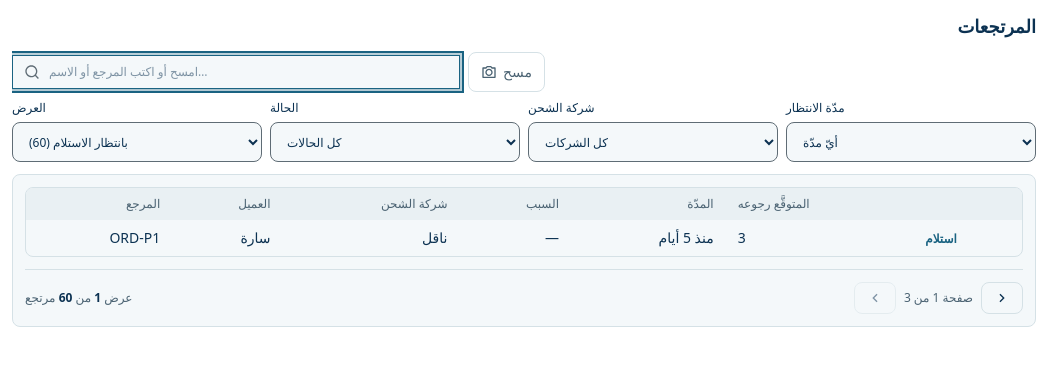
choosing › and «إعادة تعيين» counts what is chosen — the search too — and puts every one back
The width and height of the screenshot is (1053, 392).
Check: the dropdown labelled "العرض" is shown, box [12,122,262,162]
Select "مرتجع (40)" in the dropdown labelled "الحالة" at (395, 142), box [270,122,520,162]
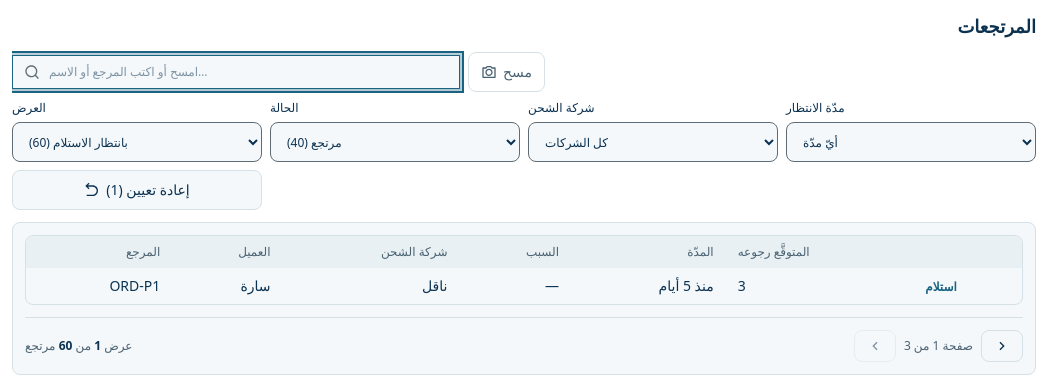
Select "أمان (20)" in the dropdown labelled "شركة الشحن" at (653, 142), box [528,122,778,162]
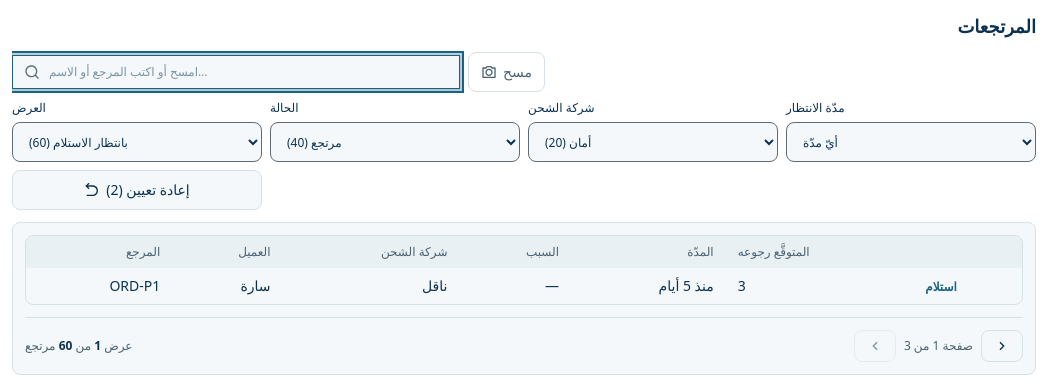
Select "منذ 2–3 أيام (18)" in the dropdown labelled "مدّة الانتظار" at (911, 142), box [786,122,1036,162]
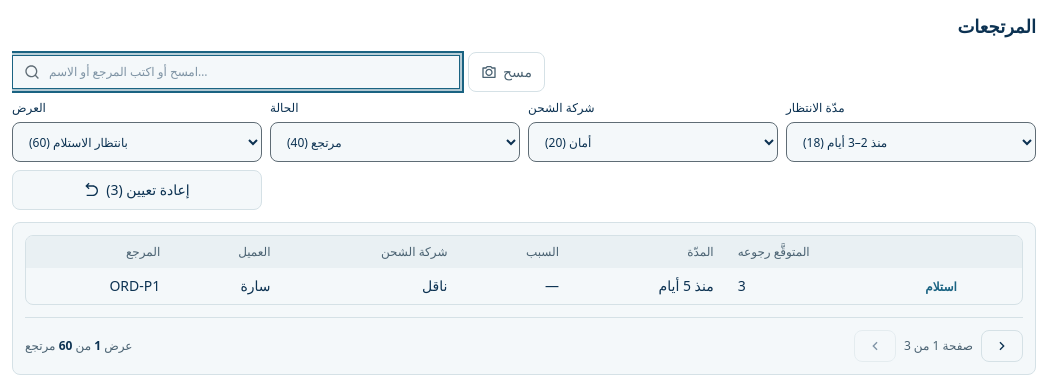
Type "TRK" into the field labelled "امسح أو اكتب المرجع أو الاسم…".
click(236, 72); type("TRK")  # box [12,55,460,89]
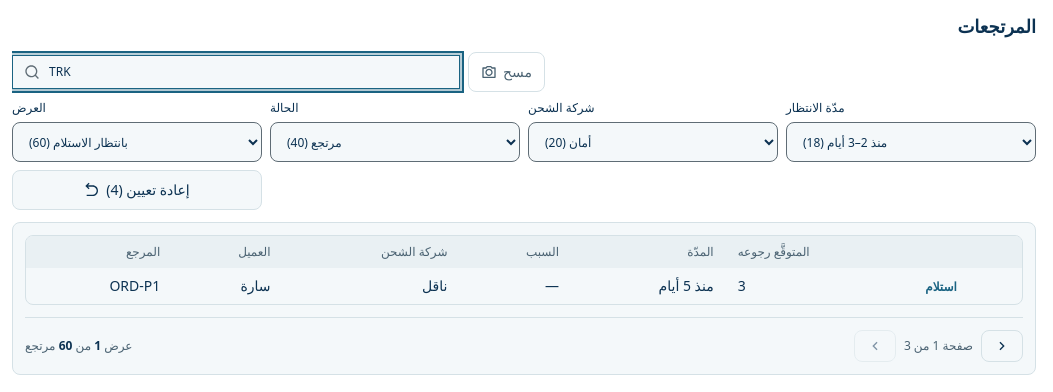
Click the button "إعادة تعيين (4)".
click(137, 190)  # box [12,170,262,210]
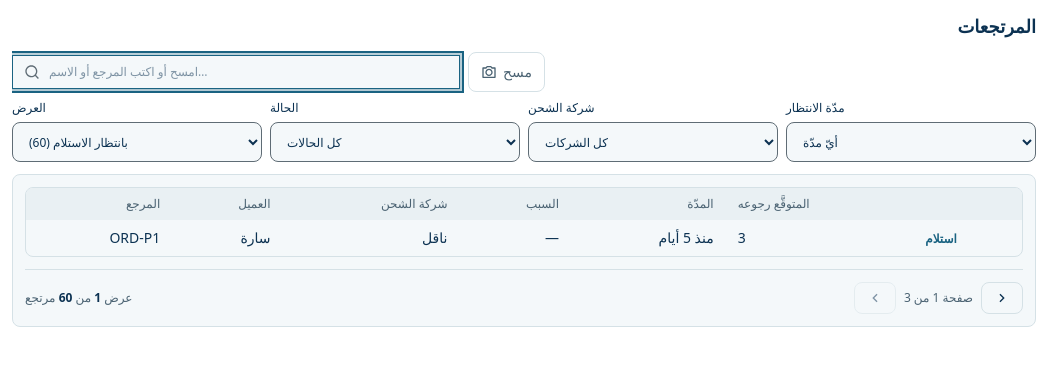
Check: the button "إعادة تعيين" is gone
Check: the field labelled "امسح أو اكتب المرجع أو الاسم…" is empty, box [12,55,460,89]
